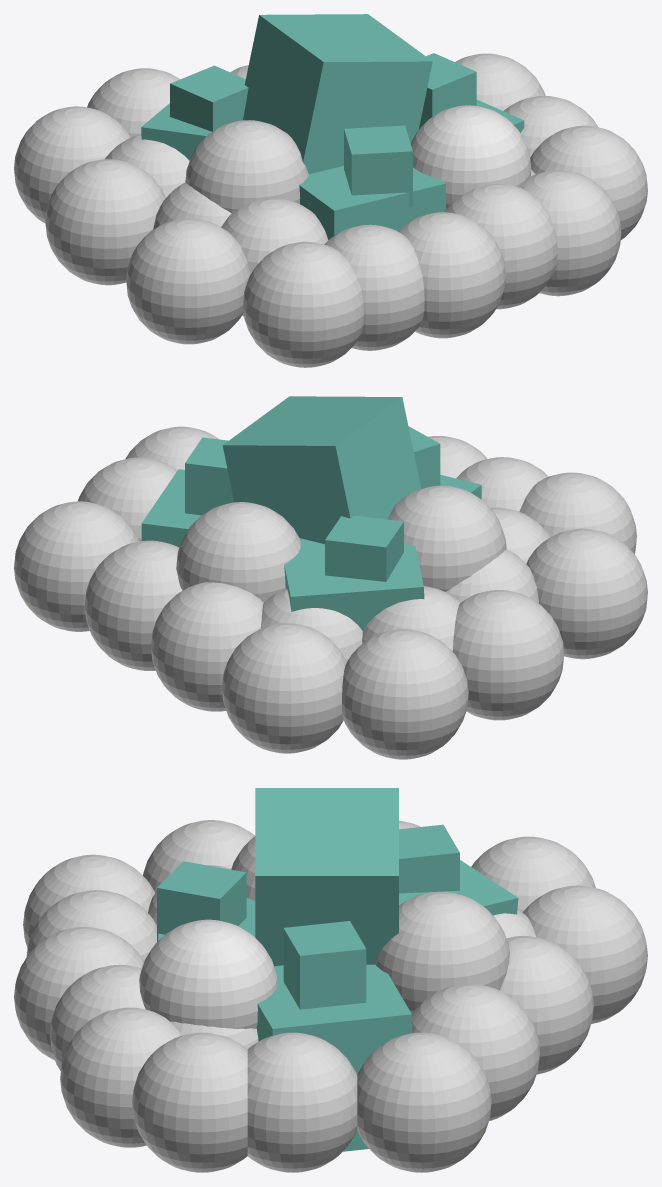
Rendered from snowandice.fbx.
The picture shows the model from 3 angles, top to bottom: view 1: azimuth 30°, elevation 25°; view 2: azimuth 150°, elevation 25°; view 3: azimuth 270°, elevation 25°; orthographic projection. The views are drawn at different scales.
Visible parts, largest first — view 1: SnowandIce; view 2: SnowandIce; view 3: SnowandIce.
Boxes of the visible parts, x1,y1,x2,y2 form: SnowandIce: (14,14,647,367); SnowandIce: (14,396,647,759); SnowandIce: (14,788,647,1172).
Bounding box in the file's own units: 179 × 79.23 × 177.
